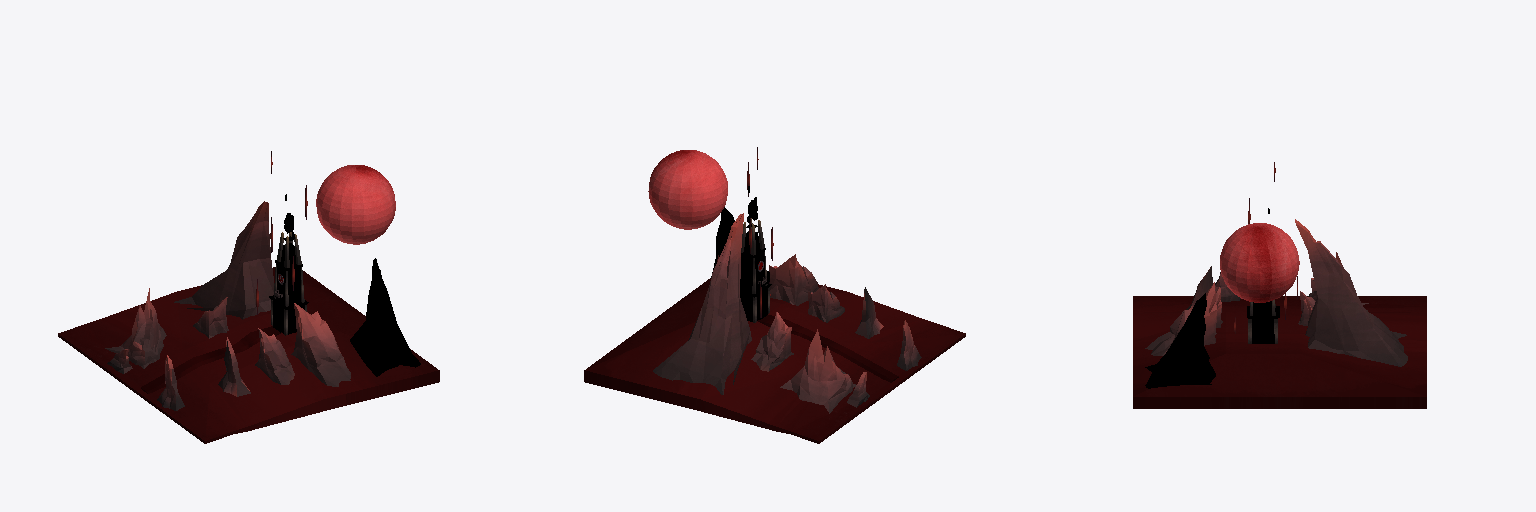
3 views of the same model, side by side, from view 1: azimuth 30°, elevation 25°; view 2: azimuth 150°, elevation 25°; view 3: azimuth 270°, elevation 25° (orthographic).
Parts seen in each view (by area): view 1: ground03, moon1, pasted__pCube40 rock07, rock07 pasted__pCube38, polySurface17 rock08, rock02, rock09, rock08 polySurface18, tower, path1, tower_guards; view 2: ground03, pasted__pCube40 rock07, moon1, rock08 polySurface18, rock02, rock09, polySurface17 rock08, tower, path1, tower_guards, rock07 pasted__pCube38; view 3: ground03, pasted__pCube40 rock07, moon1, rock07 pasted__pCube38, polySurface17 rock08, tower, rock09, rock02.
Boxes of the visible parts, x1,y1,x2,y2 form: ground03: [58, 267, 439, 443]; moon1: [316, 165, 395, 244]; pasted__pCube40 rock07: [174, 201, 273, 319]; rock07 pasted__pCube38: [350, 258, 420, 376]; polySurface17 rock08: [291, 303, 350, 386]; rock02: [193, 297, 294, 384]; rock09: [107, 337, 250, 410]; rock08 polySurface18: [105, 288, 166, 368]; tower: [269, 236, 308, 334]; path1: [141, 326, 281, 393]; tower_guards: [271, 232, 306, 335]; ground03: [584, 278, 965, 443]; pasted__pCube40 rock07: [653, 213, 751, 394]; moon1: [648, 150, 727, 229]; rock08 polySurface18: [780, 329, 855, 413]; rock02: [751, 284, 844, 371]; rock09: [847, 287, 921, 407]; polySurface17 rock08: [769, 254, 818, 305]; tower: [740, 224, 771, 321]; path1: [758, 315, 898, 382]; tower_guards: [741, 218, 769, 322]; rock07 pasted__pCube38: [711, 207, 769, 282]; ground03: [1133, 296, 1426, 408]; pasted__pCube40 rock07: [1295, 219, 1407, 366]; moon1: [1220, 223, 1299, 302]; rock07 pasted__pCube38: [1145, 293, 1215, 388]; polySurface17 rock08: [1145, 282, 1217, 355]; tower: [1247, 301, 1279, 343]; rock09: [1186, 266, 1315, 309]; rock02: [1216, 287, 1315, 327].
Size of the model in its own units: 96.44 by 76.96 by 98.67.
Materials: 19 (11 with a texture image).